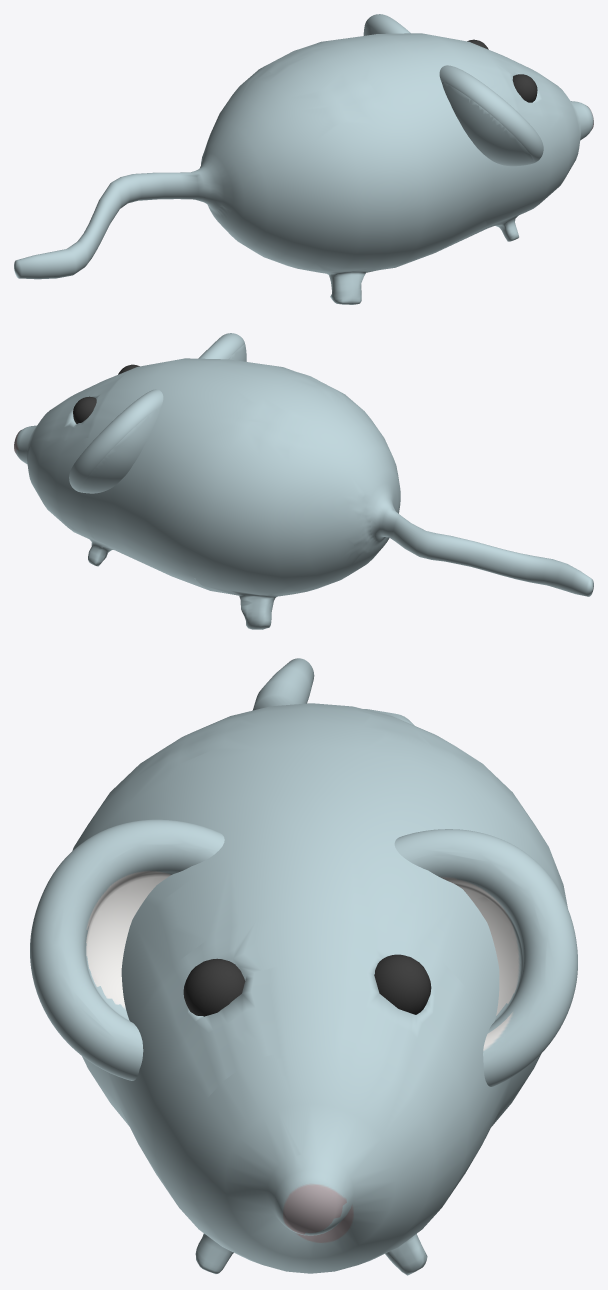
Rendered from mouse-v2.fbx.
The picture shows the model from 3 angles, top to bottom: view 1: azimuth 30°, elevation 25°; view 2: azimuth 150°, elevation 25°; view 3: azimuth 270°, elevation 25°; orthographic projection. The views are drawn at different scales.
Parts seen in each view (by area): view 1: mouse; view 2: mouse; view 3: mouse.
Boxes of the visible parts, left/top/right/bottom form: mouse: left=14, top=14, right=593, bottom=304; mouse: left=14, top=333, right=593, bottom=629; mouse: left=30, top=658, right=577, bottom=1275.
Bounding box in the file's own units: 600 × 220 × 250.
